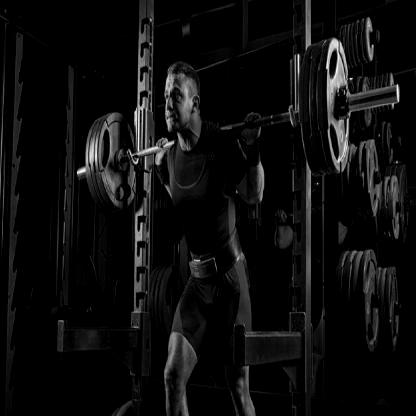Barbell: (391, 80, 401, 109)
